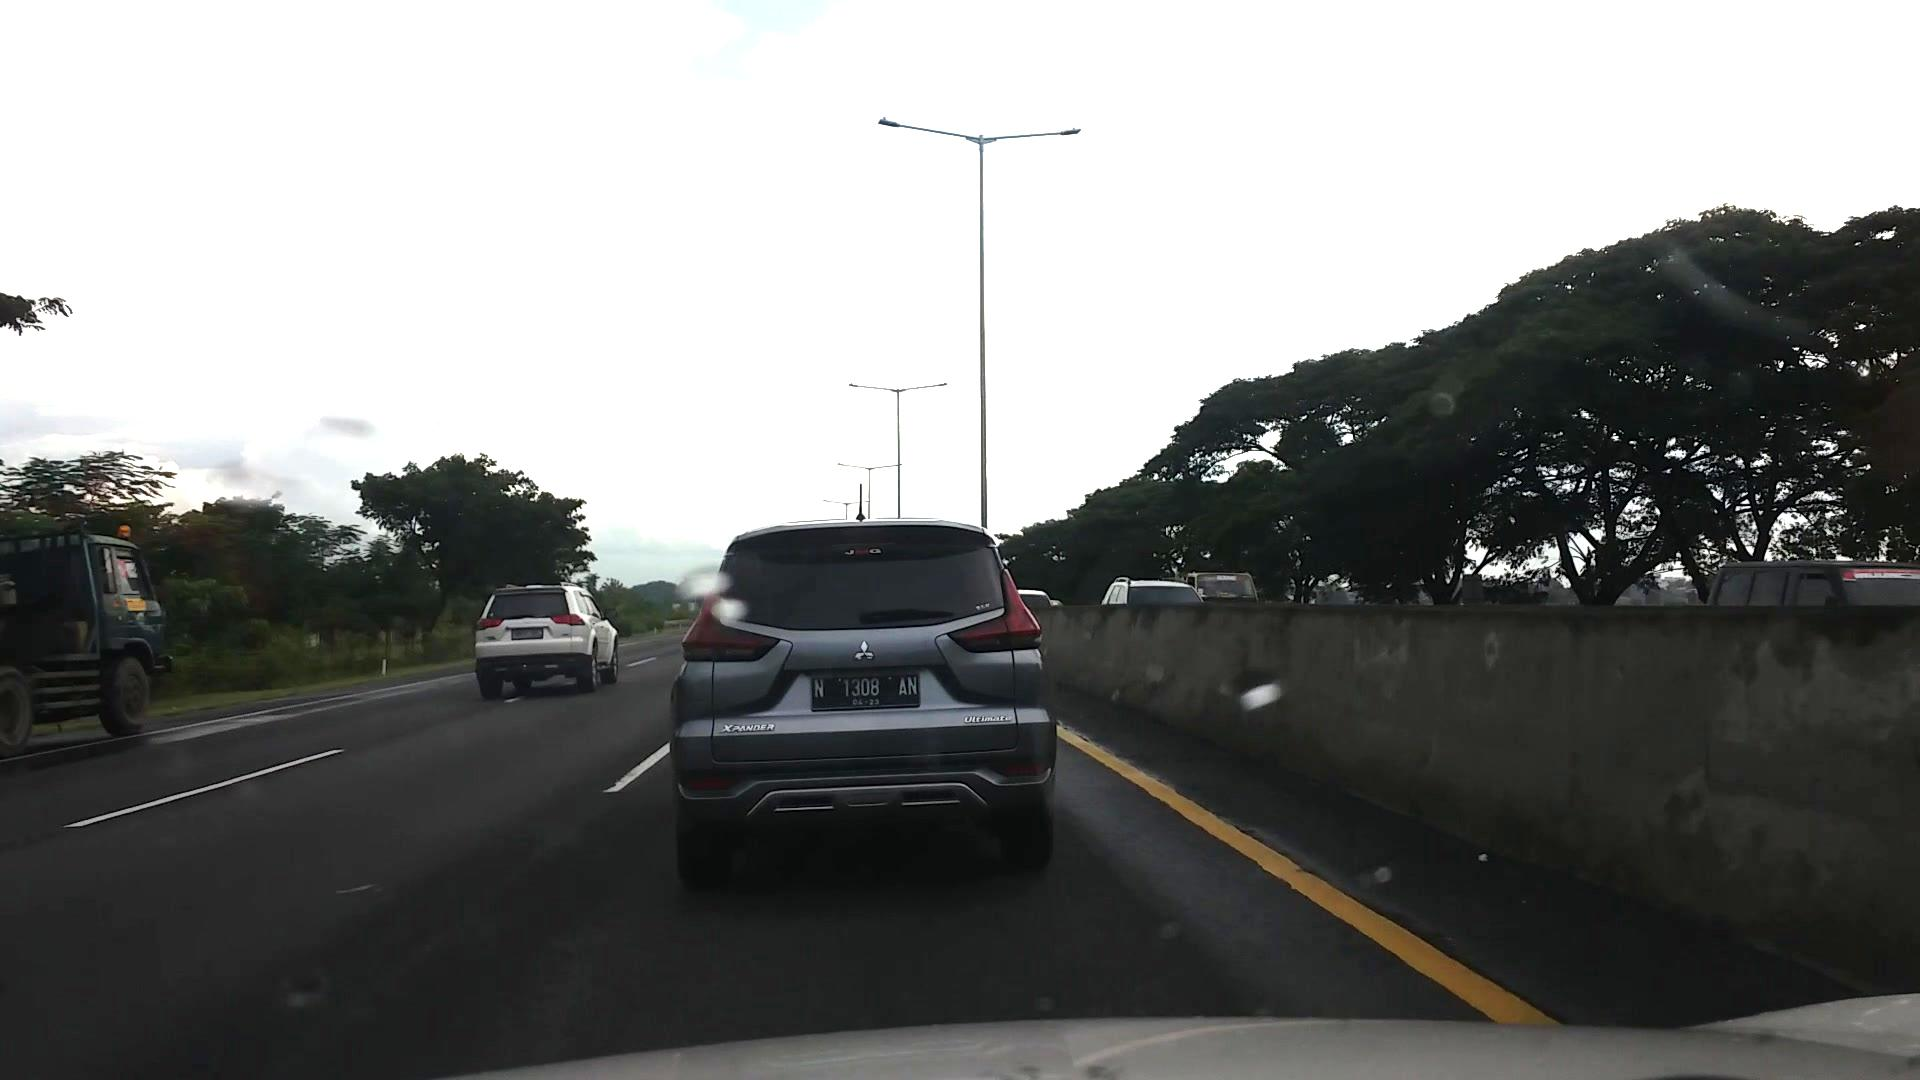plate_positive: (811, 673, 920, 709)
